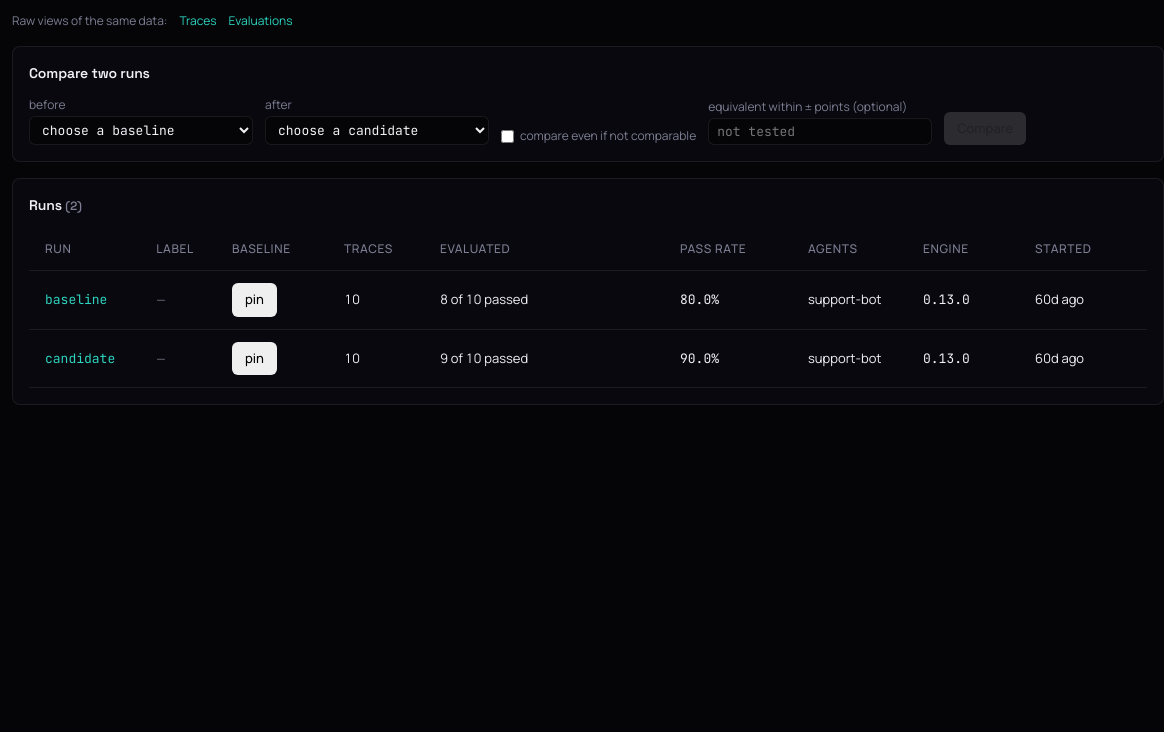
Test case: RunsPage › compare: the button waits for both runs, posts them, and renders the answer
The width and height of the screenshot is (1164, 732).
Expected: the button "Compare" is disabled, left=944, top=112, right=1026, bottom=145
Select "baseline" in the dropdown labelled "before" at (141, 130), box left=29, top=116, right=253, bottom=145
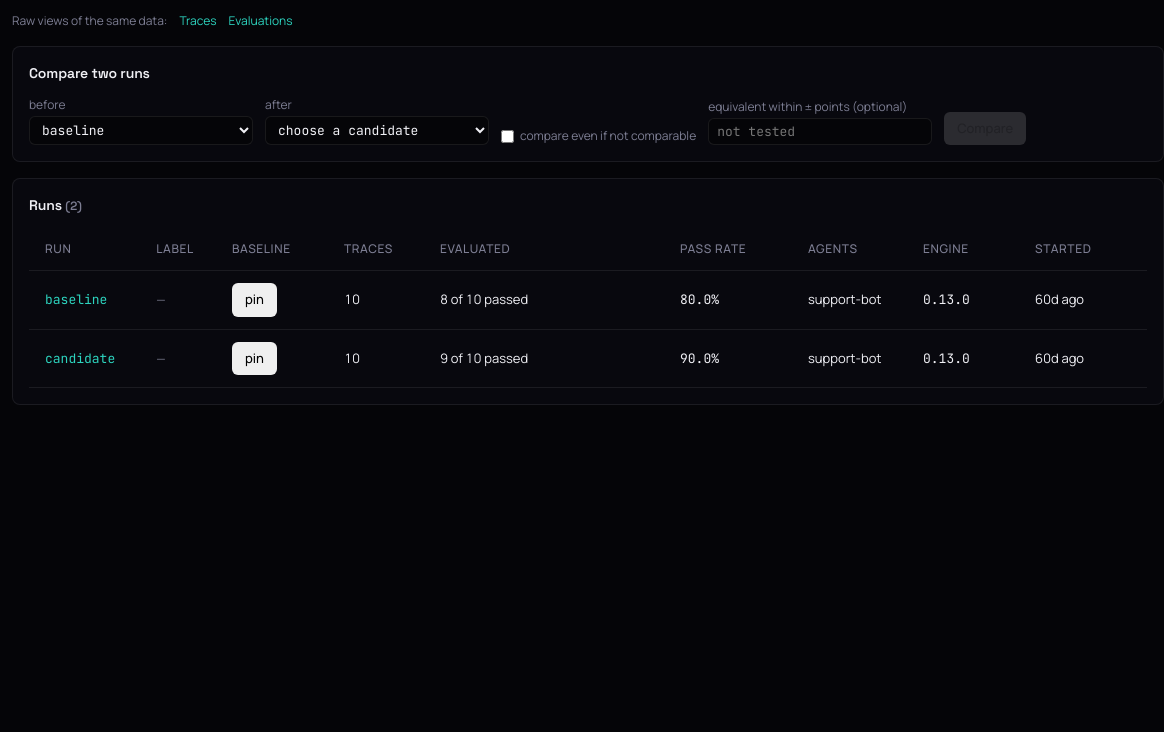
Select "candidate" in the dropdown labelled "after" at (377, 130), box left=265, top=116, right=489, bottom=145
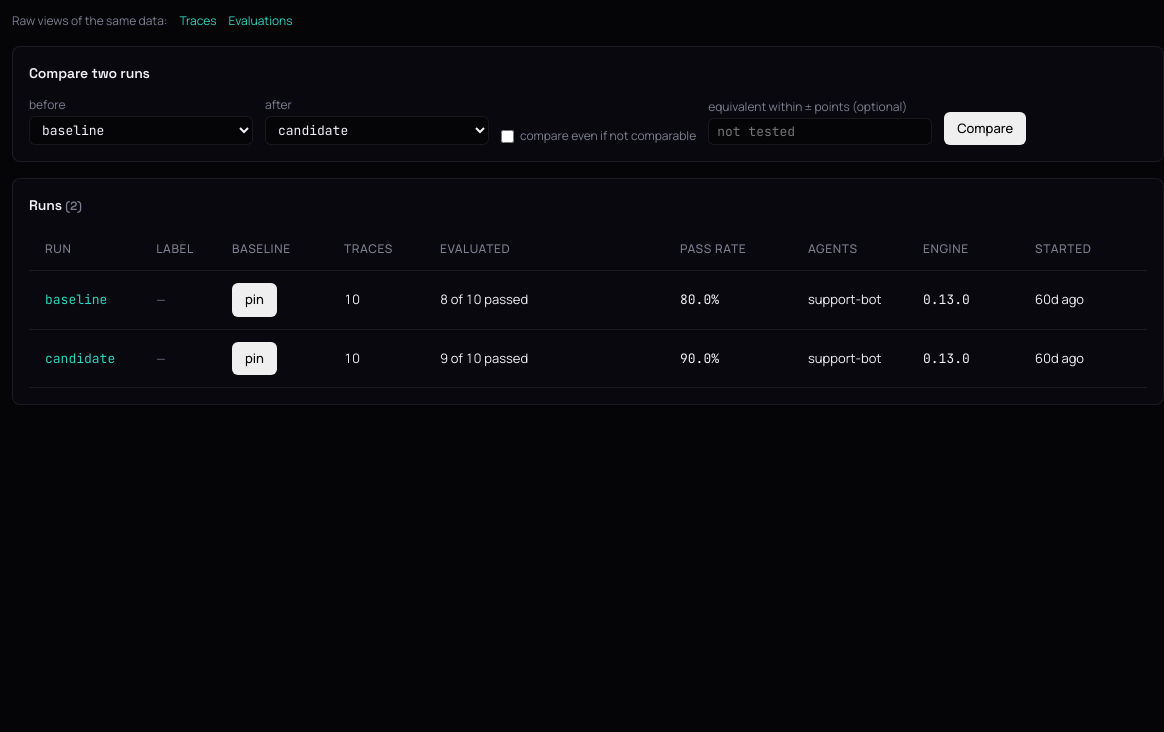
Expected: the button "Compare" is enabled
Click the button "Compare".
click(985, 128)  # box left=944, top=112, right=1026, bottom=145
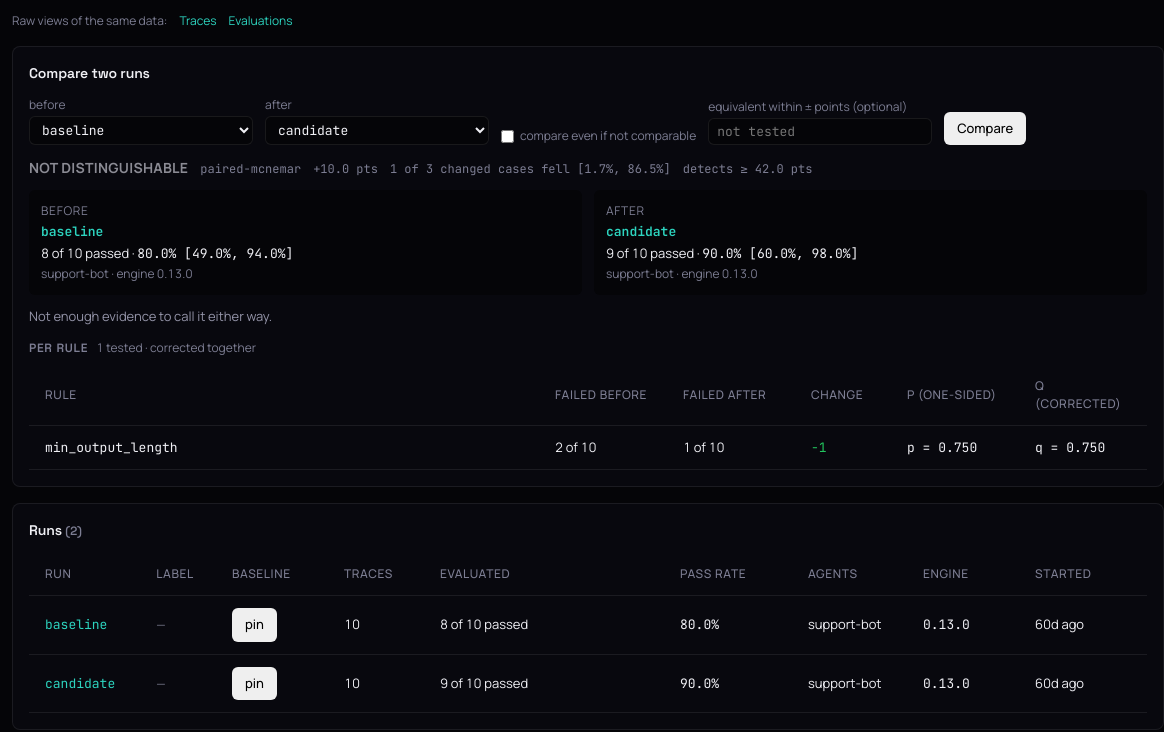
Expected: the element named "Comparison" is shown, left=29, top=157, right=1147, bottom=470
Expected: the text "NOT DISTINGUISHABLE" is shown, left=29, top=157, right=188, bottom=178
Expected: the text "detects ≥ 42.0 pts" is shown, left=683, top=160, right=812, bottom=178
